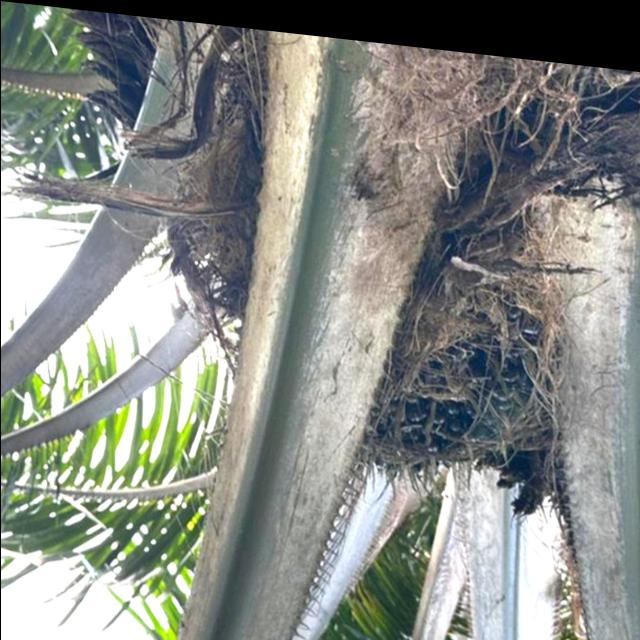almost: (346, 271, 540, 514)
